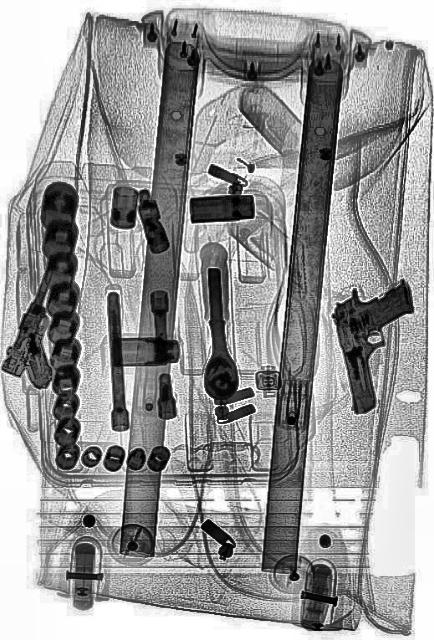Gun: (328, 268, 428, 418), (1, 253, 93, 401)
